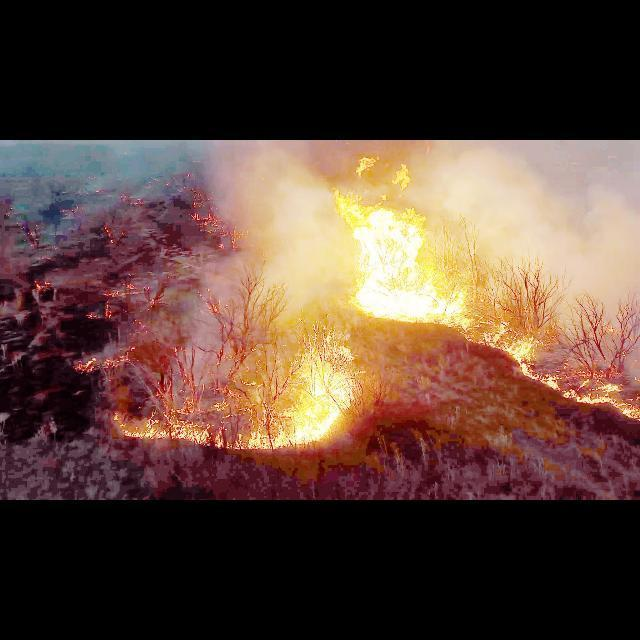Fire: (334, 158, 468, 326), (257, 336, 363, 450)
